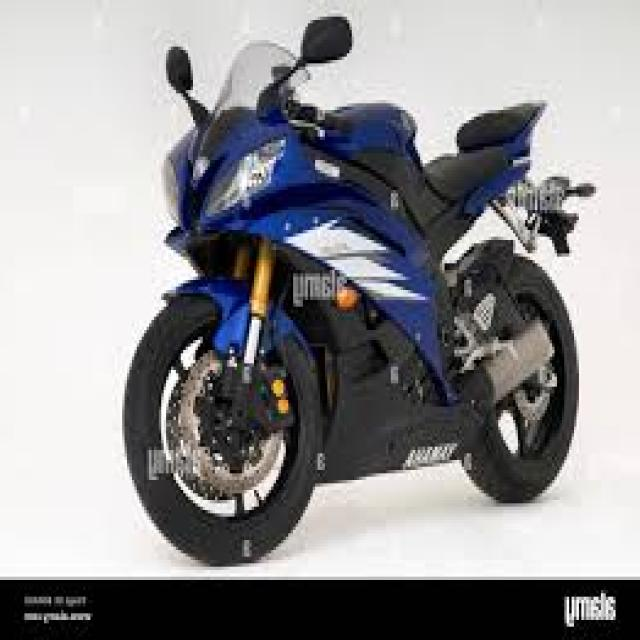bike: (123, 16, 594, 566)
